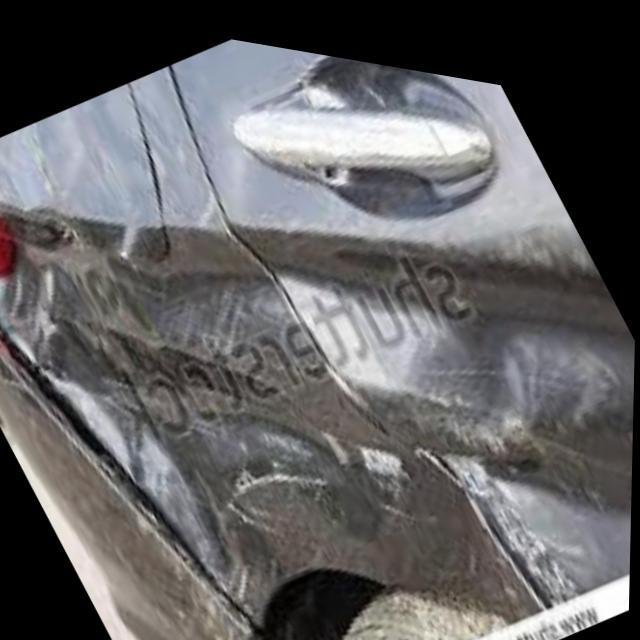dent: (0, 78, 636, 640)
